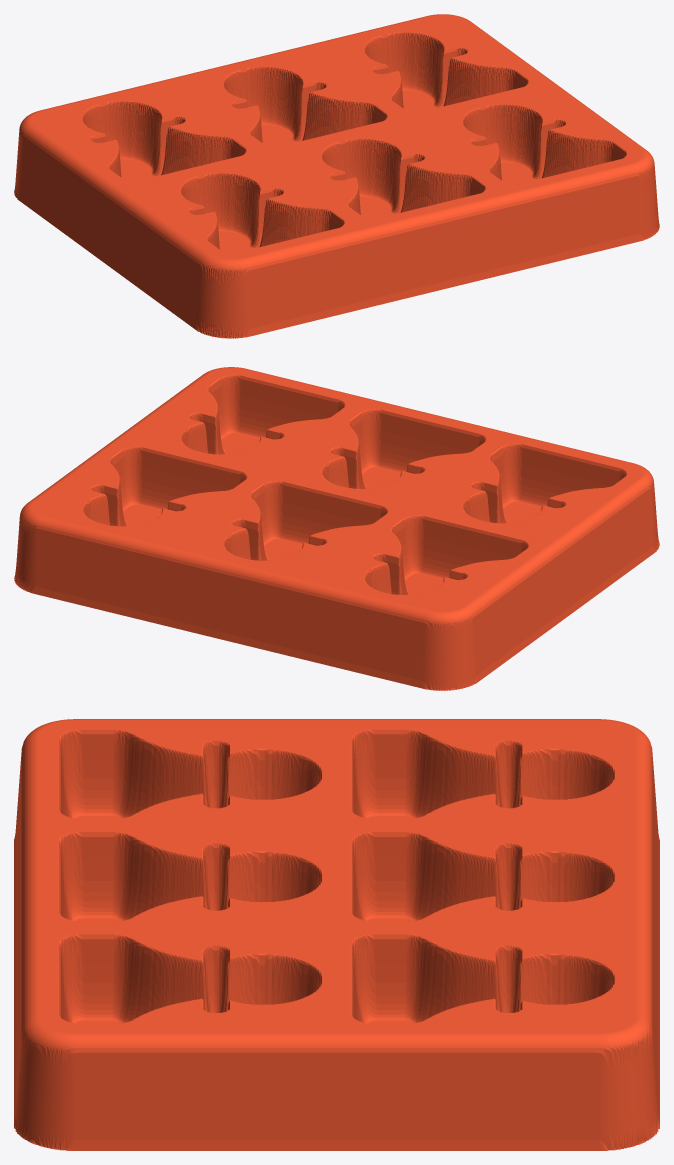
Rendered from mold.glb.
The picture shows the model from 3 angles, top to bottom: view 1: azimuth 30°, elevation 25°; view 2: azimuth 150°, elevation 25°; view 3: azimuth 270°, elevation 25°; orthographic projection. The views are drawn at different scales.
Visible parts, largest first — view 1: geometry_0; view 2: geometry_0; view 3: geometry_0.
Boxes of the visible parts, bbox=[...] form: geometry_0: bbox=[14, 14, 659, 338]; geometry_0: bbox=[14, 367, 659, 690]; geometry_0: bbox=[14, 719, 659, 1150].
Bounding box in the file's own units: 0.1165 × 0.0175 × 0.0955.
